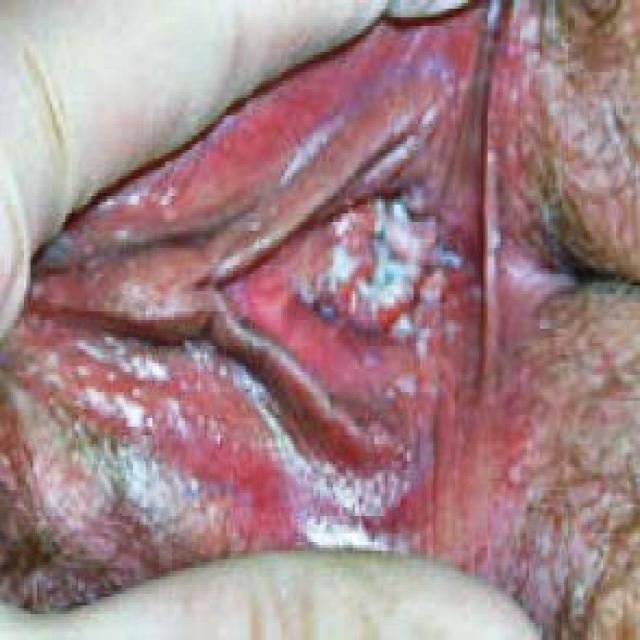Tinea Ringworm Candidiasis and other Fungal Infections: (182, 119, 608, 429)
